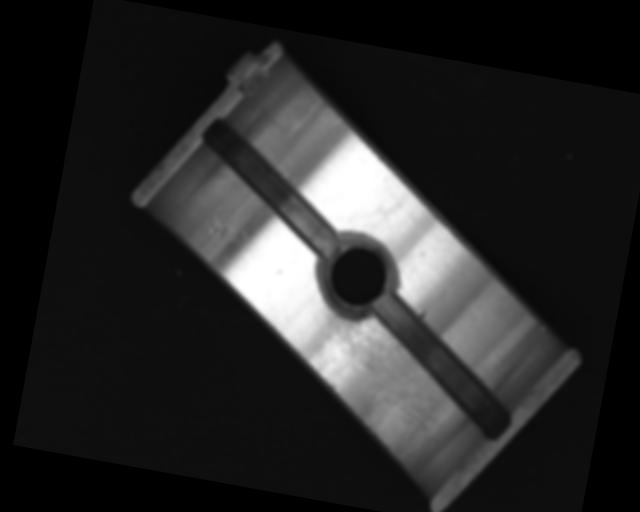bruise: (206, 214, 231, 240), (415, 306, 428, 321)
gap: (353, 291, 529, 441), (187, 117, 353, 257)
hole: (309, 226, 404, 322)
scratch: (294, 295, 463, 463)
